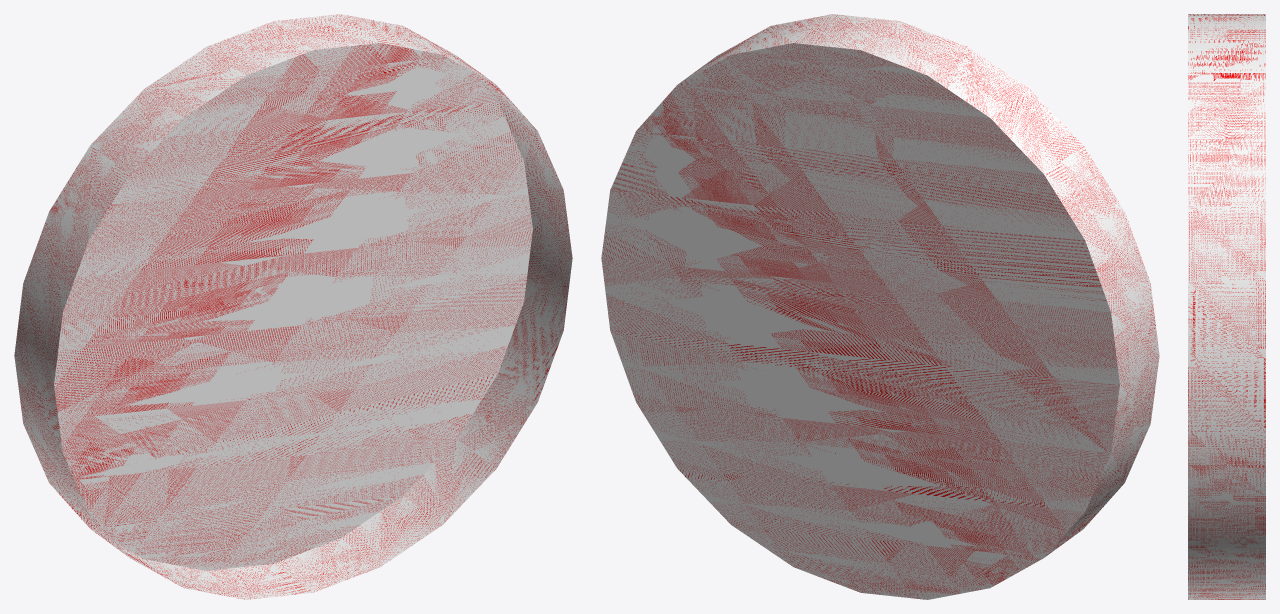
File: original-110.obj
The picture shows the model from 3 angles, left to right: view 1: azimuth 30°, elevation 25°; view 2: azimuth 150°, elevation 25°; view 3: azimuth 270°, elevation 25°; orthographic projection.
Visible parts, largest first — view 1: mesh235/mesh235-geometry/material_0/component_5#mesh235-geometry; view 2: mesh235/mesh235-geometry/material_0/component_5#mesh235-geometry; view 3: mesh235/mesh235-geometry/material_0/component_5#mesh235-geometry.
Boxes of the visible parts, x1,y1,x2,y2 form: mesh235/mesh235-geometry/material_0/component_5#mesh235-geometry: (14, 14, 572, 599); mesh235/mesh235-geometry/material_0/component_5#mesh235-geometry: (601, 14, 1159, 599); mesh235/mesh235-geometry/material_0/component_5#mesh235-geometry: (1188, 14, 1265, 599).
Size of the model in its own units: 0.06 by 0.06 by 0.00795.
